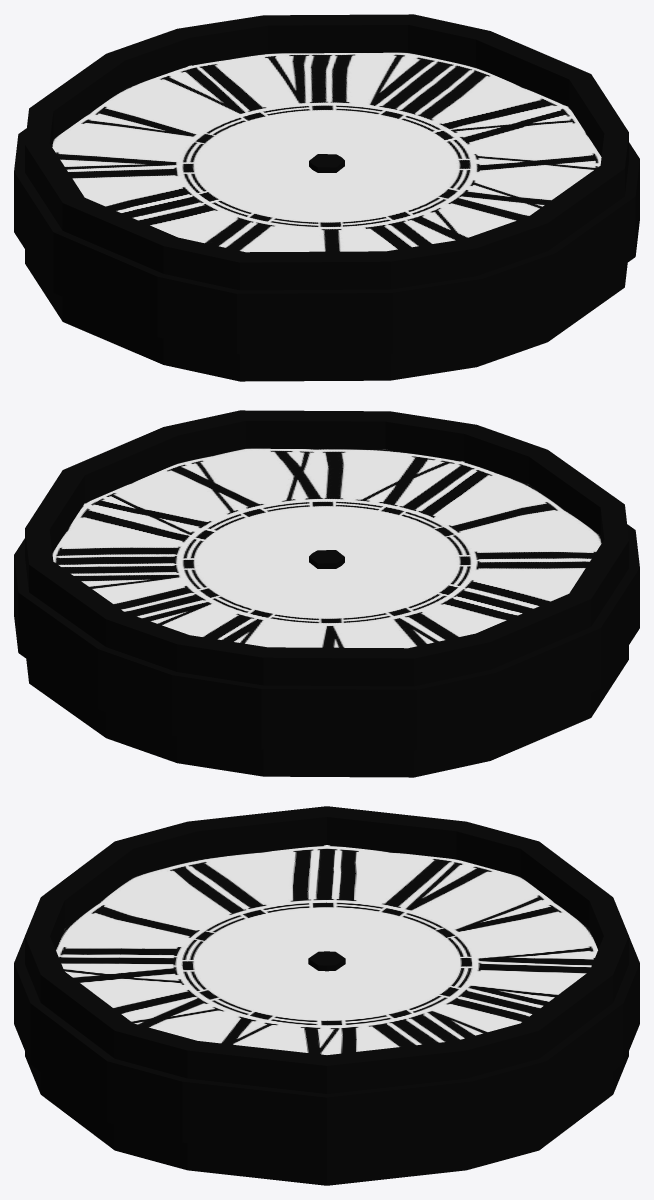
Rendered from Reloj.fbx.
The picture shows the model from 3 angles, top to bottom: view 1: azimuth 30°, elevation 25°; view 2: azimuth 150°, elevation 25°; view 3: azimuth 270°, elevation 25°; orthographic projection.
Parts seen in each view (by area): view 1: BaseReloj; view 2: BaseReloj; view 3: BaseReloj.
Part boxes in pixels (left/top/right/bottom): BaseReloj: left=14, top=14, right=639, bottom=381; BaseReloj: left=14, top=410, right=639, bottom=777; BaseReloj: left=14, top=806, right=639, bottom=1185.
Bounding box in the file's own units: 228 × 47.37 × 224.
